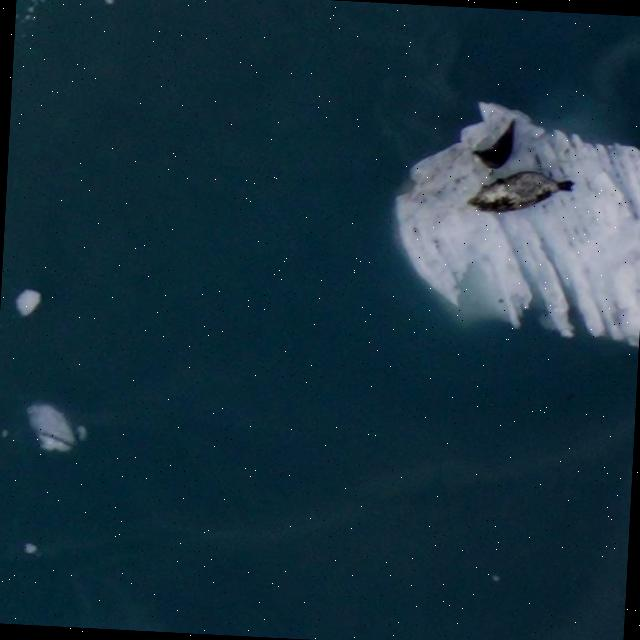seal: (464, 154, 576, 225), (469, 113, 534, 177)
